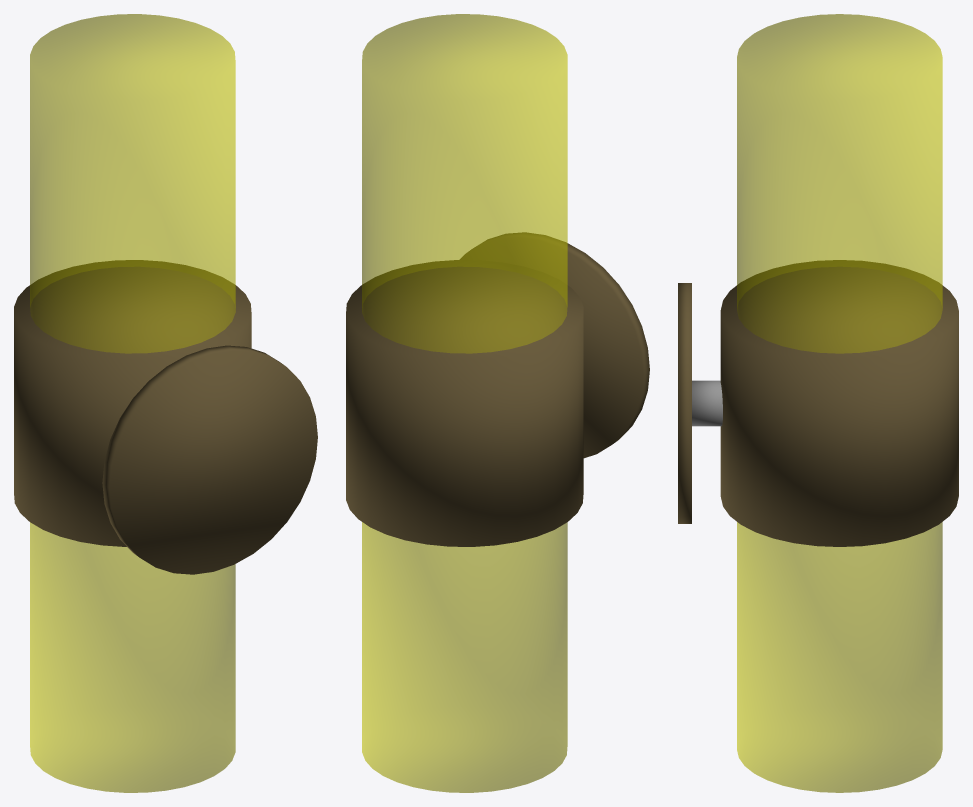
Rendered from Lamp.fbx.
3 views of the same model, side by side, from view 1: azimuth 30°, elevation 25°; view 2: azimuth 150°, elevation 25°; view 3: azimuth 270°, elevation 25° (orthographic).
Parts seen in each view (by area): view 1: Cylinder.002; view 2: Cylinder.002; view 3: Cylinder.002.
Boxes of the visible parts, box(x1,y1,x2,y2) form: Cylinder.002: box(14, 14, 317, 792); Cylinder.002: box(346, 14, 649, 792); Cylinder.002: box(678, 14, 958, 792).
Bounding box in the file's own units: 39.3 × 125 × 45.78.
